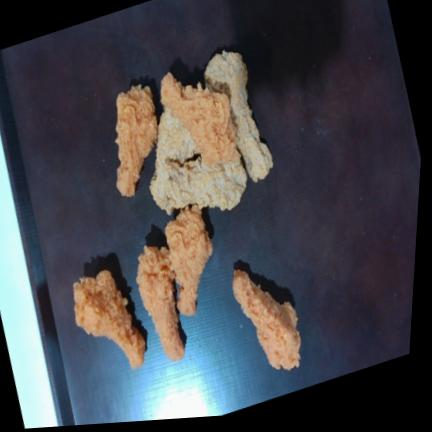chicken: (203, 50, 272, 182), (160, 72, 239, 163), (232, 270, 300, 369), (136, 246, 184, 360), (165, 204, 212, 314), (115, 84, 157, 195), (165, 158, 246, 209)
